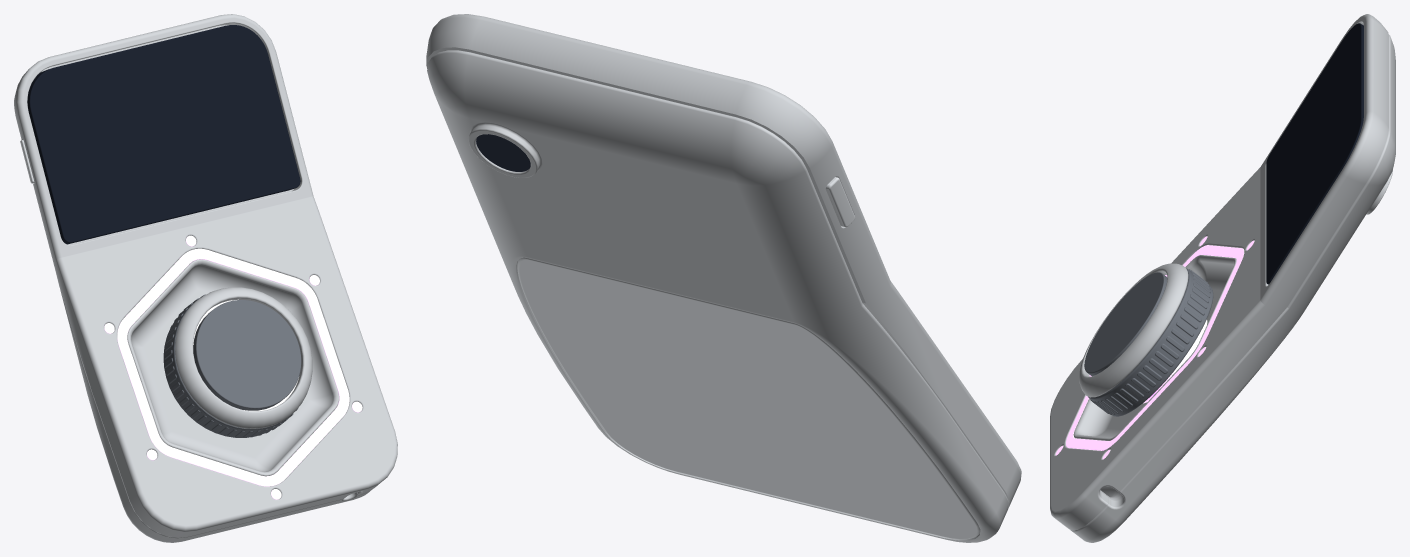
3 renders of one model, left to right at view 1: azimuth 30°, elevation 25°; view 2: azimuth 150°, elevation 25°; view 3: azimuth 270°, elevation 25°, orthographic. The views are drawn at different scales.
Visible parts, largest first — view 1: Bass top, Screen, Button, LED, Born, Bass bottom, Dial; view 2: Bass bottom, Back, Bass top, Camera, Power button; view 3: Bass top, Screen, Bass bottom, Dial, Born, Button, LED.
Boxes of the visible parts, <box> form: Bass top: <box>14,14,397,537</box>; Screen: <box>27,25,300,244</box>; Button: <box>193,300,301,410</box>; LED: <box>117,248,349,486</box>; Born: <box>175,287,312,428</box>; Bass bottom: <box>59,285,377,542</box>; Dial: <box>163,292,298,437</box>; Bass bottom: <box>427,50,1008,542</box>; Back: <box>517,257,980,539</box>; Bass top: <box>426,14,1021,507</box>; Camera: <box>476,134,530,171</box>; Power button: <box>825,177,855,227</box>; Bass top: <box>1050,14,1388,530</box>; Screen: <box>1266,23,1363,284</box>; Bass bottom: <box>1070,34,1395,542</box>; Dial: <box>1088,268,1213,416</box>; Born: <box>1079,263,1188,397</box>; Button: <box>1084,272,1167,376</box>; LED: <box>1066,245,1244,450</box>.
Bounding box in the file's own units: 6.01 × 8.66 × 6.38.
